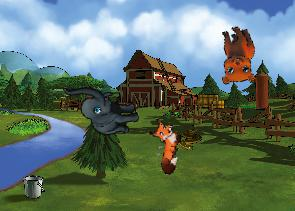bear: (207, 22, 263, 89)
elephant: (63, 75, 141, 142)
fox: (141, 117, 186, 175)
